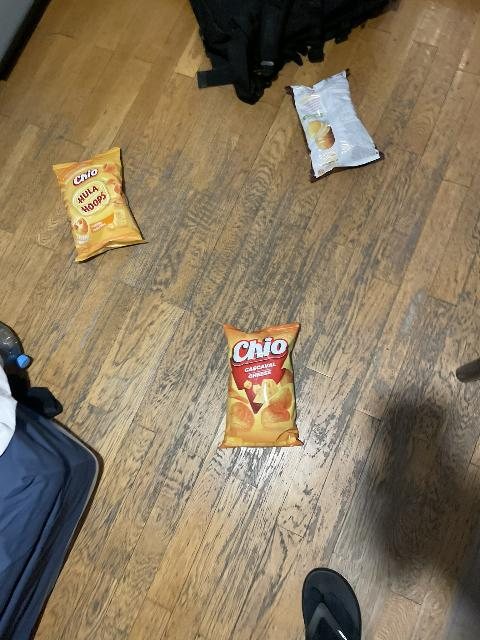Chio Cascaval 125g: (219, 322, 306, 448)
Chio Hula Hoops Cheese 70g: (53, 147, 150, 263)
Lays Beef Grilled Ribs 125g: (290, 71, 383, 180)
